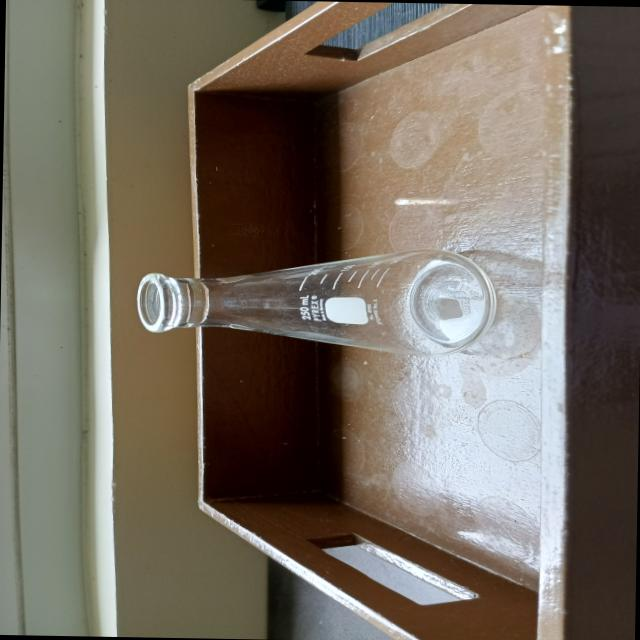erlenmeyer_flask: (124, 238, 507, 358)
